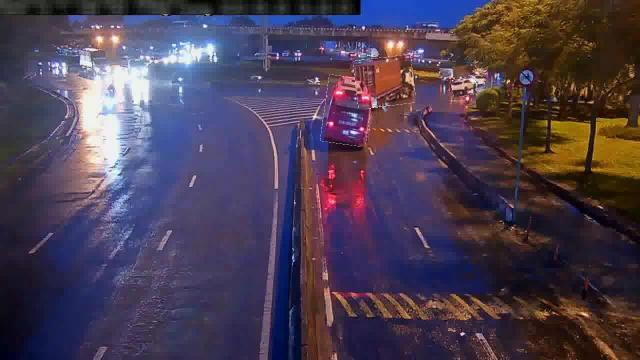Bike: (103, 90, 113, 112)
Bus: (322, 76, 372, 146)
Car: (452, 78, 476, 96)
Truck: (354, 56, 414, 108)
